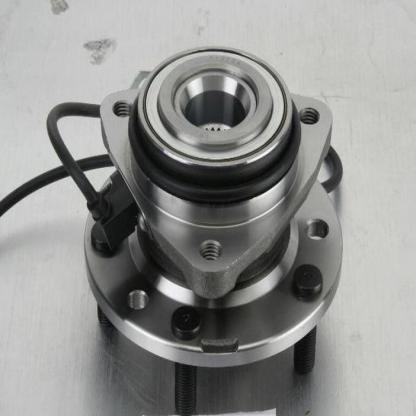FOD: (127, 38, 303, 194)
